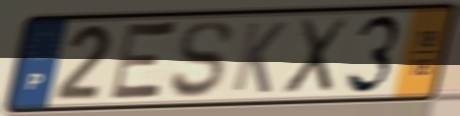2: (51, 22, 117, 105)
3: (341, 12, 405, 97)
E: (106, 18, 182, 104)
K: (228, 20, 289, 96)
S: (168, 18, 235, 100)
X: (280, 14, 352, 97)
